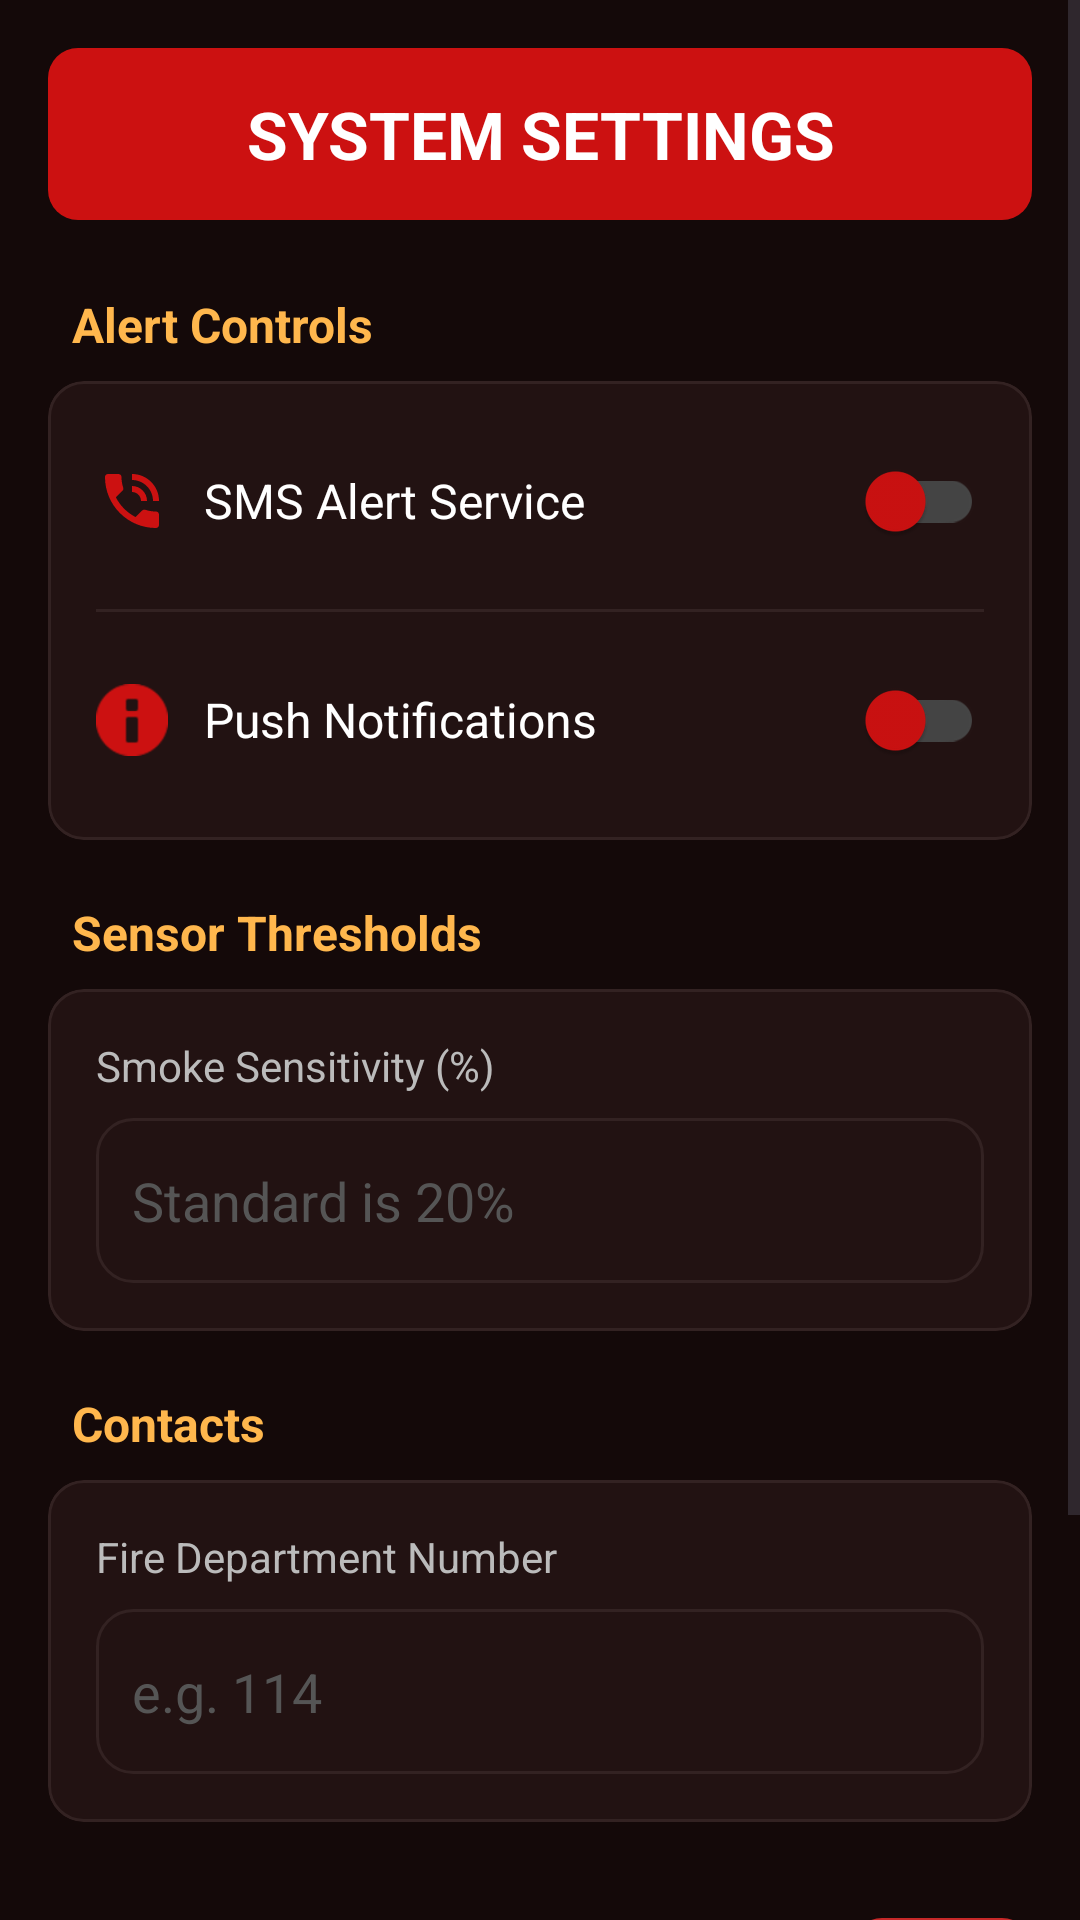

Icons on this 1080×1920 Android screen, each with the point to tap as [x,y]:
info: [132,720]
speakerphone: [132,501]
